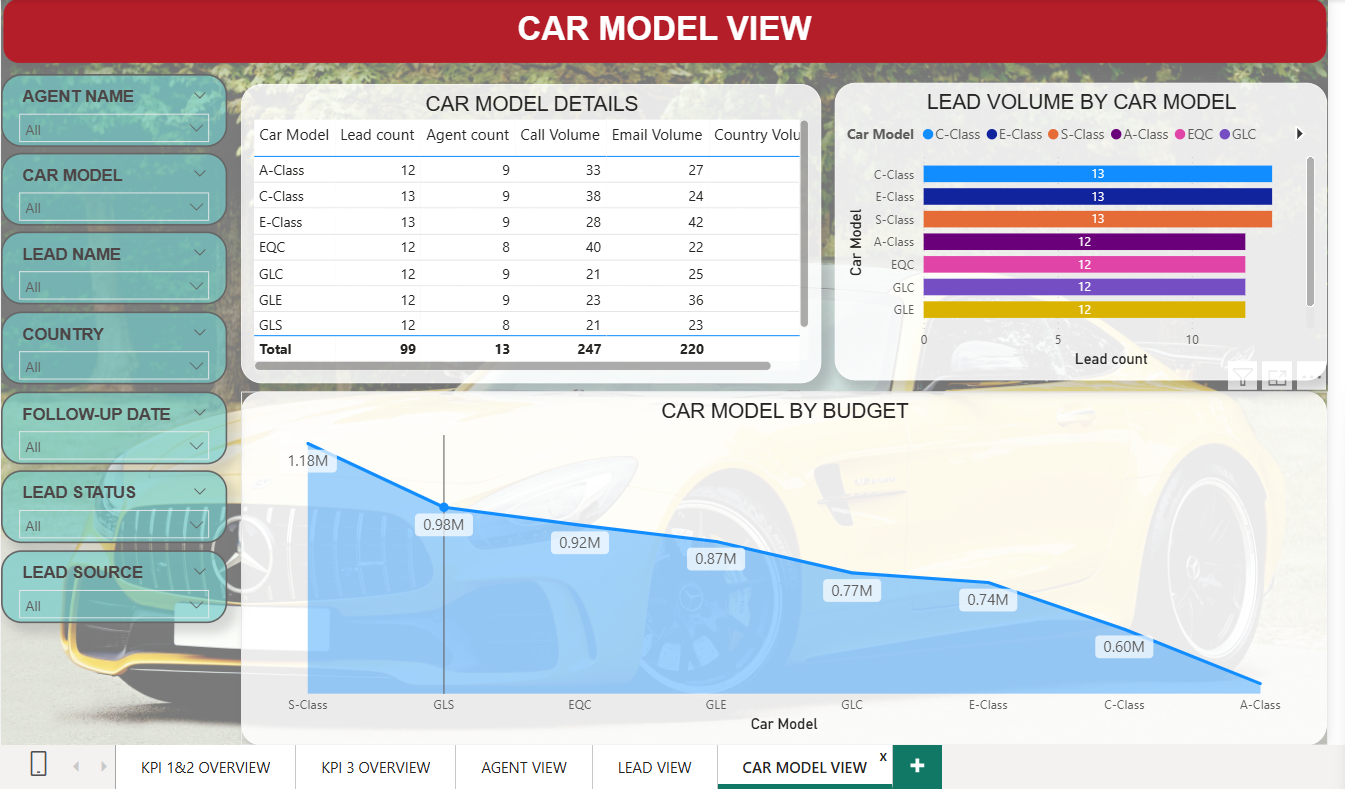

The page's visual inventory and layout, read from the dashboard file:
{"tool":"powerbi","page":{"name":"CAR MODEL VIEW","canvas":[1280,720],"ordinal":4},"visuals":[{"type":"tableEx","title":"CAR MODEL DETAILS","fields":{"Values":["Sales Main Data.Car Model","Agent Lookup.Lead count","Agent Lookup.Agent count","Agent Lookup.Call Volume","Agent Lookup.Email Volume","Sales Main Data.Country"]},"box":[231.2,82.5,560,288.8],"z":0},{"type":"stackedAreaChart","title":"CAR MODEL BY BUDGET","fields":{"Y":["Sum(Sales Main Data.Budget $)"],"Category":["Car Model Lookup.Car Model"]},"box":[231.6,378.8,1048.4,341.4],"z":1000},{"type":"barChart","title":"LEAD VOLUME BY CAR MODEL","fields":{"Category":["Sales Main Data.Car Model"],"Y":["Agent Lookup.Lead count"],"Series":["Sales Main Data.Car Model"]},"box":[805,81.2,475,287.5],"z":2000},{"type":"textbox","box":[2,0,1276.4,61.5],"z":3000},{"type":"slicer","fields":{"Values":["Agent Lookup.Agent Name"]},"box":[0,72.5,218.8,70],"z":4000},{"type":"slicer","fields":{"Values":["Car Model Lookup.Car Model"]},"box":[0,148.8,218.8,70],"z":5000},{"type":"slicer","fields":{"Values":["Lead Lookup.Lead Name"]},"box":[0,225,218.8,70],"z":6000},{"type":"slicer","fields":{"Values":["Country Lookup.Country"]},"box":[0,301.2,218.8,70],"z":7000},{"type":"slicer","fields":{"Values":["Sales Main Data.Follow-up Date"]},"box":[0,378.8,218.8,70],"z":8000},{"type":"slicer","fields":{"Values":["Sales Main Data.Lead Status"]},"box":[0,455,218.8,70],"z":9000},{"type":"slicer","fields":{"Values":["Sales Main Data.Lead Source"]},"box":[0,532.5,218.8,70],"z":10000}]}

Visuals, with their boxes on the page's 1280x720 design canvas (x1, y1, x2, y2). These are canvas units, not pixel positions in the 1345x789 screenshot, which may show the page scaled, cropped or inside an application window:
"CAR MODEL DETAILS" tableEx: bbox=(231, 82, 791, 371)
"CAR MODEL BY BUDGET" stackedAreaChart: bbox=(232, 379, 1280, 720)
"LEAD VOLUME BY CAR MODEL" barChart: bbox=(805, 81, 1280, 369)
textbox: bbox=(2, 0, 1278, 62)
slicer - Agent Lookup.Agent Name: bbox=(0, 72, 219, 142)
slicer - Car Model Lookup.Car Model: bbox=(0, 149, 219, 219)
slicer - Lead Lookup.Lead Name: bbox=(0, 225, 219, 295)
slicer - Country Lookup.Country: bbox=(0, 301, 219, 371)
slicer - Sales Main Data.Follow-up Date: bbox=(0, 379, 219, 449)
slicer - Sales Main Data.Lead Status: bbox=(0, 455, 219, 525)
slicer - Sales Main Data.Lead Source: bbox=(0, 532, 219, 602)
